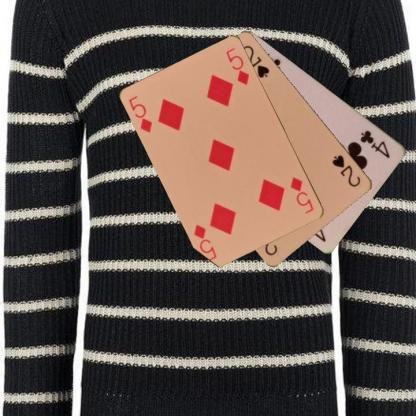2s: (330, 152, 362, 188)
4c: (358, 128, 392, 160)
5d: (288, 174, 315, 216), (127, 93, 154, 134)
